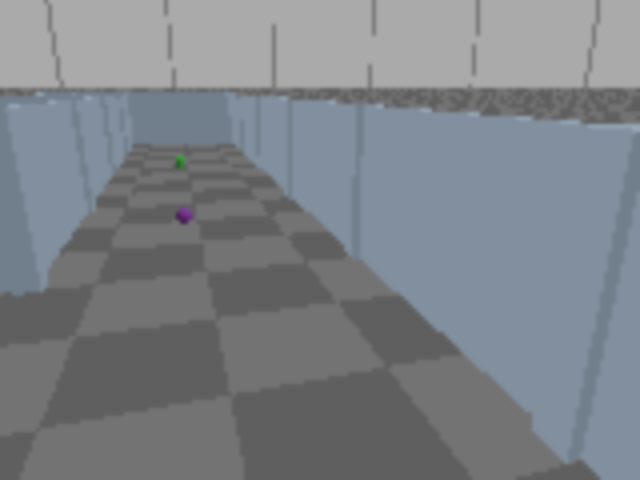puck: (174, 206, 193, 226)
